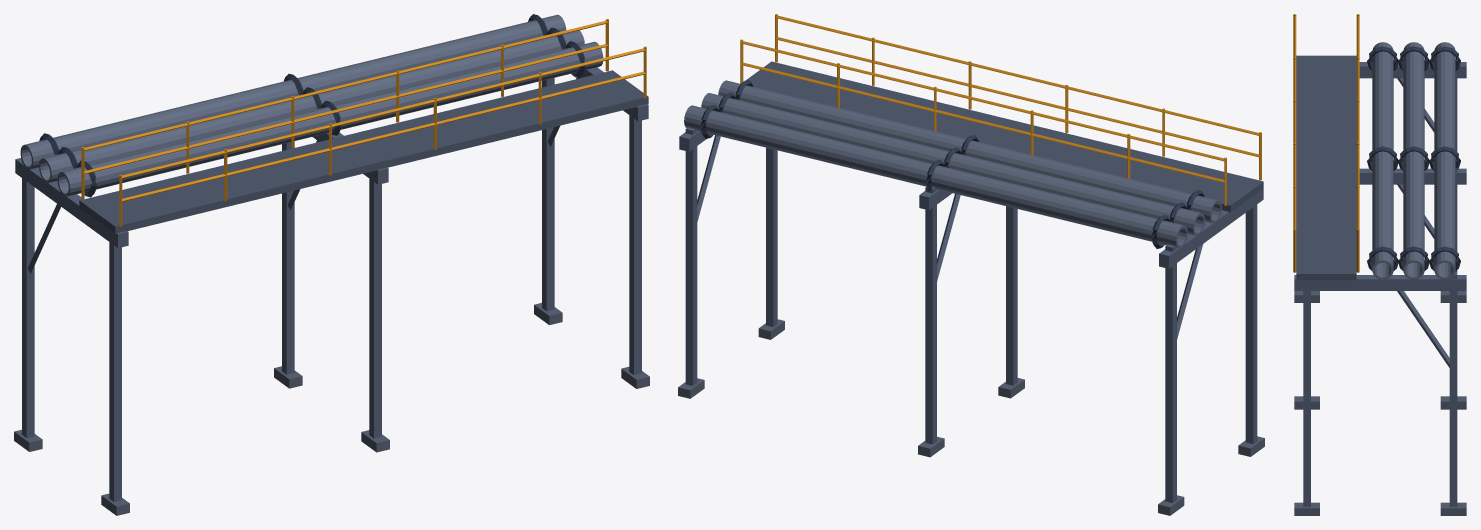
The model's file is power_pipe_rack.glb.
The picture shows the model from 3 angles, left to right: view 1: azimuth 30°, elevation 25°; view 2: azimuth 150°, elevation 25°; view 3: azimuth 270°, elevation 25°; orthographic projection. The views are drawn at different scales.
Visible parts, largest first — view 1: machine, steel_grating, metal, hivis, concrete_raw_cast, trim; view 2: machine, metal, steel_grating, hivis, concrete_raw_cast, trim; view 3: machine, steel_grating, metal, trim, hivis, concrete_raw_cast.
Boxes of the visible parts, x1=… form: machine: x1=20, y1=14, x2=603, y2=196; steel_grating: x1=79, y1=70, x2=648, y2=233; metal: x1=15, y1=67, x2=648, y2=501; hivis: x1=81, y1=19, x2=646, y2=226; concrete_raw_cast: x1=14, y1=303, x2=649, y2=515; trim: x1=39, y1=14, x2=585, y2=197; machine: x1=684, y1=80, x2=1221, y2=248; metal: x1=679, y1=127, x2=1263, y2=502; steel_grating: x1=746, y1=61, x2=1263, y2=212; hivis: x1=740, y1=14, x2=1261, y2=205; concrete_raw_cast: x1=678, y1=319, x2=1264, y2=515; trim: x1=700, y1=80, x2=1204, y2=248; machine: x1=1372, y1=42, x2=1455, y2=279; steel_grating: x1=1296, y1=55, x2=1356, y2=280; metal: x1=1294, y1=59, x2=1466, y2=506; trim: x1=1367, y1=46, x2=1460, y2=271; hivis: x1=1293, y1=14, x2=1359, y2=272; concrete_raw_cast: x1=1294, y1=291, x2=1466, y2=515.
Bounding box in the file's own units: 12 × 7.3 × 4.02.
